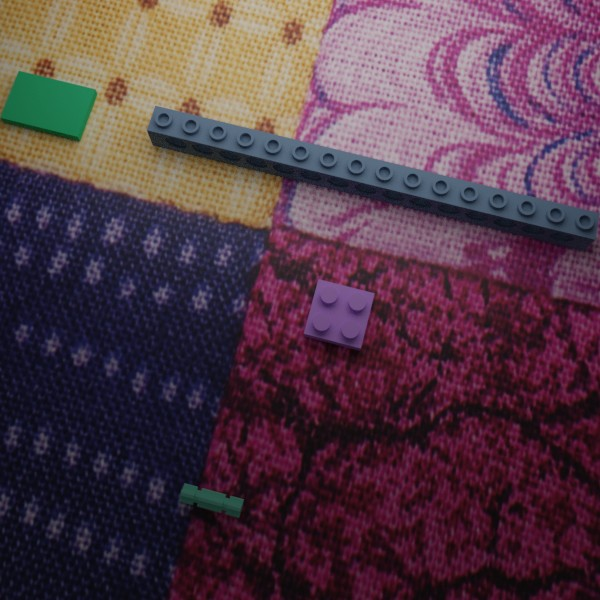lego: (146, 105, 599, 251), (0, 70, 97, 141), (303, 279, 374, 350), (179, 483, 244, 518)
